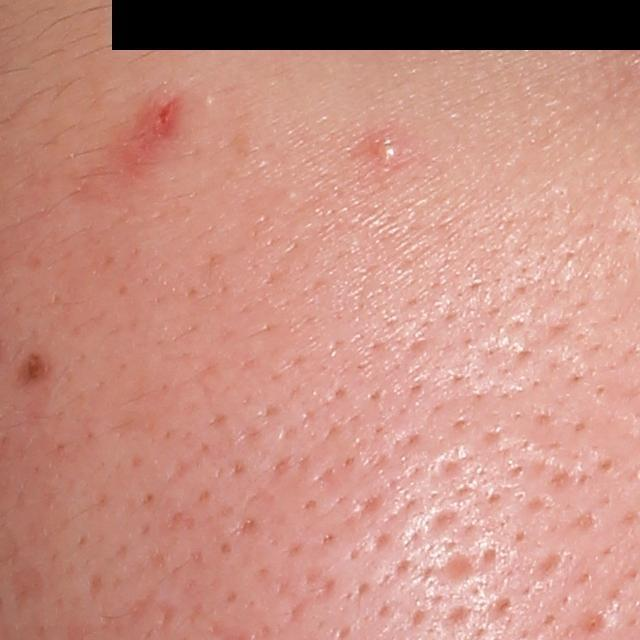atrophic_scar: (436, 551, 479, 587), (87, 570, 104, 598)
nevus: (21, 352, 54, 388)
papule: (146, 96, 181, 141)
pustule: (368, 129, 399, 161)
